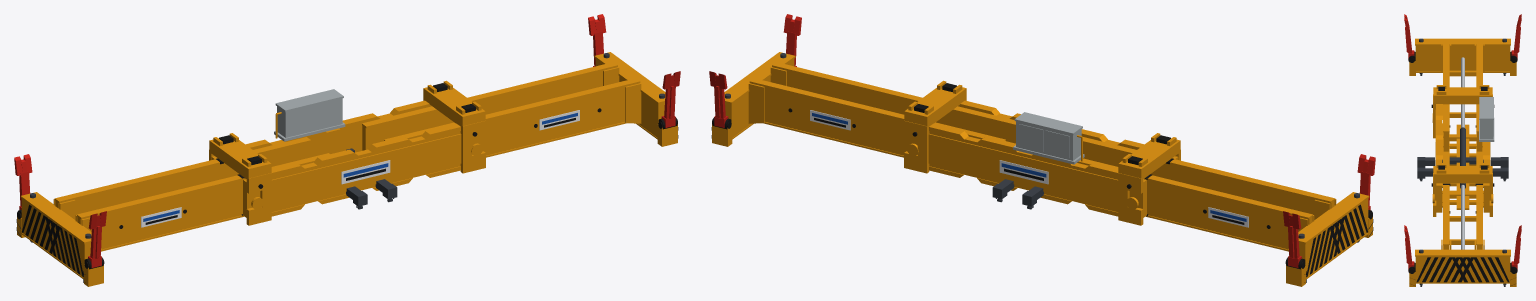
File: STS_Spreader_45ft_Extended.obj
3 renders of one model, left to right at view 1: azimuth 30°, elevation 25°; view 2: azimuth 150°, elevation 25°; view 3: azimuth 270°, elevation 25°, orthographic. The views are drawn at different scales.
Visible parts, largest first — view 1: 01_Main_Center_Frame, 05_Telescopic_Arm_Right, 05_Telescopic_Arm_Left, 06_End_Beam_Left, 06_End_Beam_Right, 04_Hydraulic_Electrical_Cabinet, 07_Hazard_Stripes_Left, 11_Nameplates_White, 03_WearPads_And_Guides, 10_Red_Flipper_R_Front, 10_Red_Flipper_L_Front, 02_TwinLift_Center_Module (+3 smaller); view 2: 01_Main_Center_Frame, 05_Telescopic_Arm_Left, 05_Telescopic_Arm_Right, 06_End_Beam_Left, 06_End_Beam_Right, 04_Hydraulic_Electrical_Cabinet, 07_Hazard_Stripes_Left, 11_Nameplates_White, 03_WearPads_And_Guides, 10_Red_Flipper_R_Back, 10_Red_Flipper_L_Back, 02_TwinLift_Center_Module (+3 smaller); view 3: 01_Main_Center_Frame, 06_End_Beam_Left, 06_End_Beam_Right, 05_Telescopic_Arm_Left, 05_Telescopic_Arm_Right, 07_Hazard_Stripes_Right, 02_TwinLift_Center_Module, 04_Hydraulic_Electrical_Cabinet, 02_TwinLift_Center_Rods, 10_Red_Flipper_L_Back, 10_Red_Flipper_L_Front, 10_Red_Flipper_R_Back (+3 smaller).
Part boxes in pixels (<box>): 01_Main_Center_Frame: <box>209,80,485,225</box>; 05_Telescopic_Arm_Right: <box>362,62,640,157</box>; 05_Telescopic_Arm_Left: <box>54,137,329,251</box>; 06_End_Beam_Left: <box>17,192,103,286</box>; 06_End_Beam_Right: <box>594,52,677,146</box>; 04_Hydraulic_Electrical_Cabinet: <box>274,89,345,141</box>; 07_Hazard_Stripes_Left: <box>16,204,85,282</box>; 11_Nameplates_White: <box>141,110,579,227</box>; 03_WearPads_And_Guides: <box>119,83,601,228</box>; 10_Red_Flipper_R_Front: <box>661,71,680,127</box>; 10_Red_Flipper_L_Front: <box>88,211,106,267</box>; 02_TwinLift_Center_Module: <box>346,148,397,209</box>; 01_Main_Center_Frame: <box>904,80,1180,225</box>; 05_Telescopic_Arm_Left: <box>1077,137,1335,251</box>; 05_Telescopic_Arm_Right: <box>749,62,1015,157</box>; 06_End_Beam_Left: <box>1286,192,1372,286</box>; 06_End_Beam_Right: <box>712,52,795,146</box>; 04_Hydraulic_Electrical_Cabinet: <box>1013,112,1084,164</box>; 07_Hazard_Stripes_Left: <box>1304,204,1373,282</box>; 11_Nameplates_White: <box>810,110,1248,227</box>; 03_WearPads_And_Guides: <box>788,83,1270,228</box>; 10_Red_Flipper_R_Back: <box>709,71,728,127</box>; 10_Red_Flipper_L_Back: <box>1283,211,1301,267</box>; 02_TwinLift_Center_Module: <box>992,179,1043,209</box>; 01_Main_Center_Frame: <box>1432,85,1493,216</box>; 06_End_Beam_Left: <box>1409,38,1516,75</box>; 06_End_Beam_Right: <box>1409,239,1516,286</box>; 05_Telescopic_Arm_Left: <box>1443,38,1482,151</box>; 05_Telescopic_Arm_Right: <box>1443,151,1482,249</box>; 07_Hazard_Stripes_Right: <box>1411,257,1514,285</box>; 02_TwinLift_Center_Module: <box>1417,127,1508,188</box>; 04_Hydraulic_Electrical_Cabinet: <box>1479,97,1494,141</box>; 02_TwinLift_Center_Rods: <box>1461,57,1464,249</box>; 10_Red_Flipper_L_Back: <box>1511,14,1521,58</box>; 10_Red_Flipper_L_Front: <box>1404,14,1414,58</box>; 10_Red_Flipper_R_Back: <box>1511,225,1521,269</box>.
Size of the model in its own units: 13.9 by 1.95 by 3.18.
